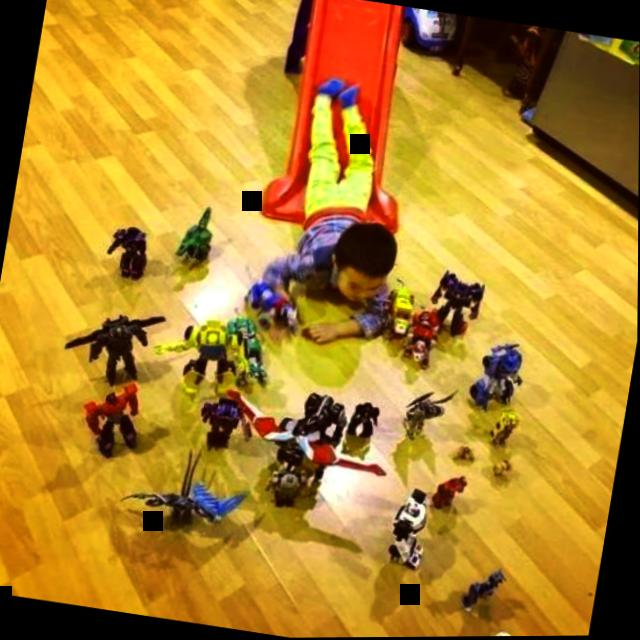Fall-Detected: (224, 57, 445, 368)
